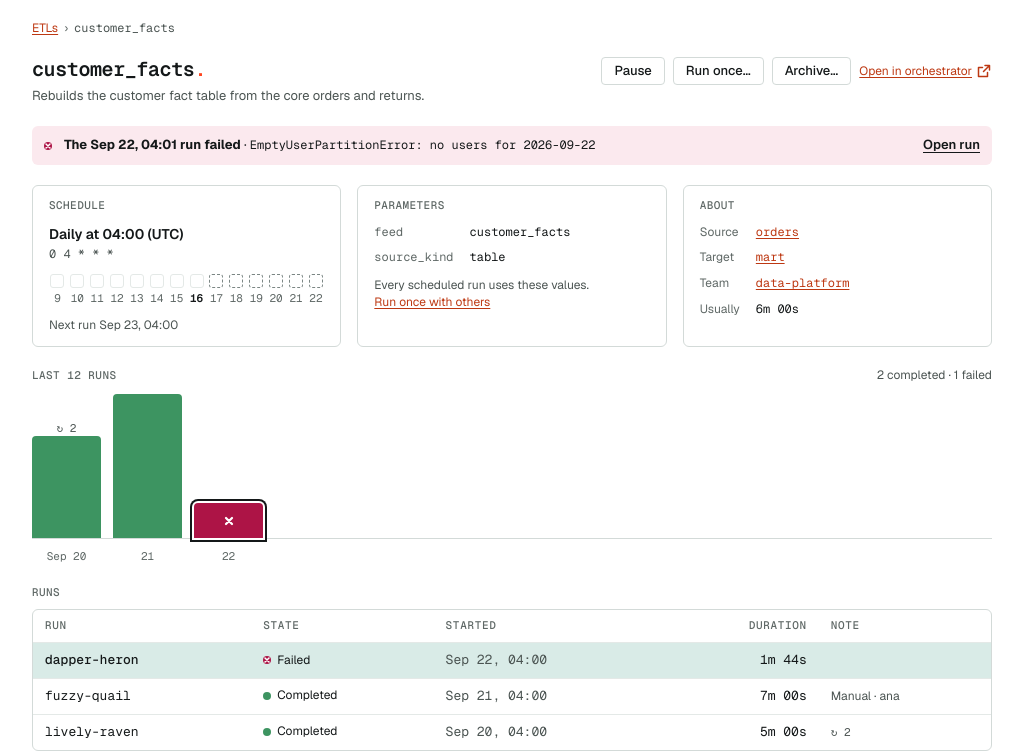
EtlPage › archives after a short confirmation, and offers to undo it at once
Expected: the table named "Runs" is shown, 33,610 -> 991,750
Click the button "Archive…" at (811,71), box 772,57 -> 851,85
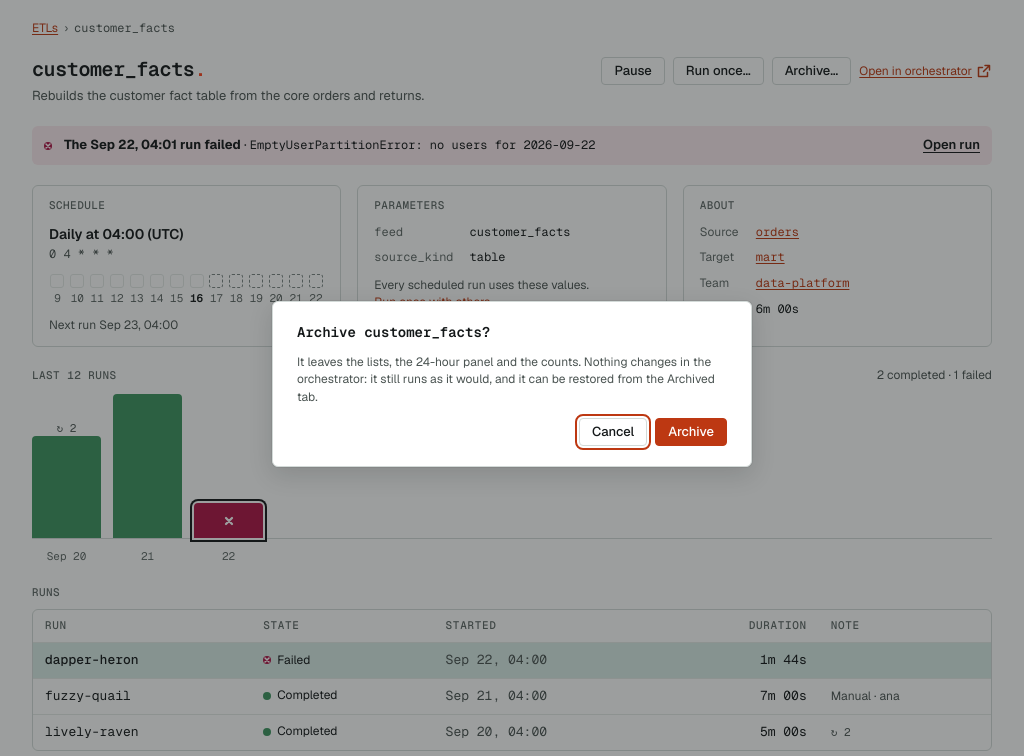
Now the dialog "Archive customer_facts?" shows "Nothing changes in the orchestrator", box 297,354 -> 715,405
Click the button "Archive" at (691,432), box 655,418 -> 727,446
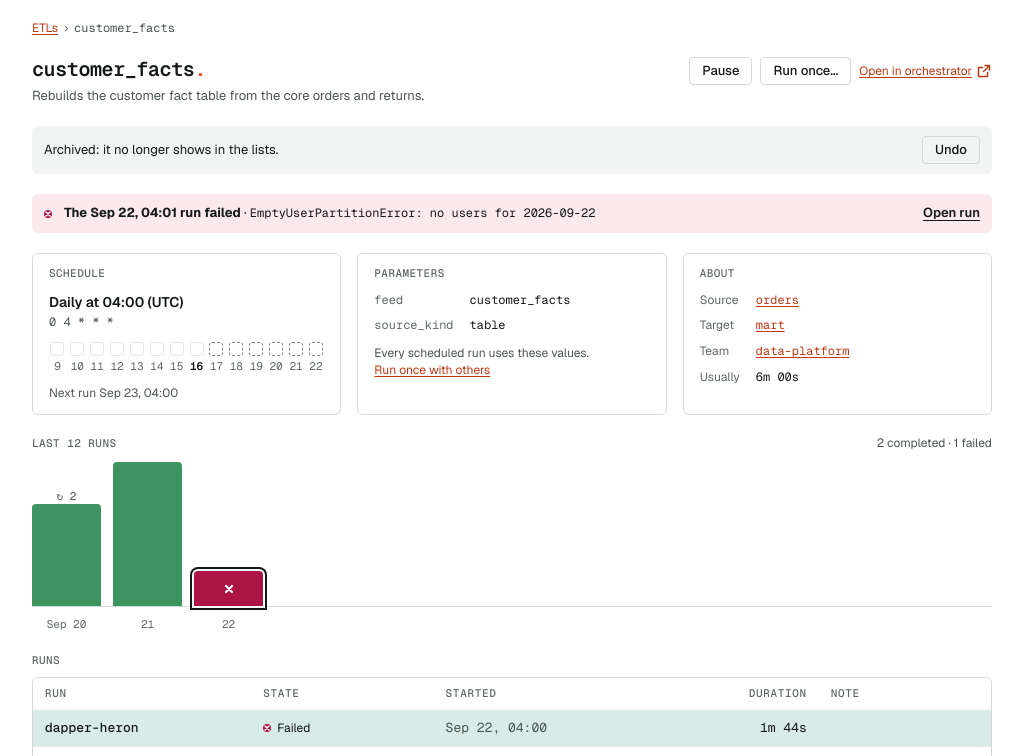
Now the button "Archive…" is gone
Click the button "Undo" at (951,150), box 922,136 -> 980,164
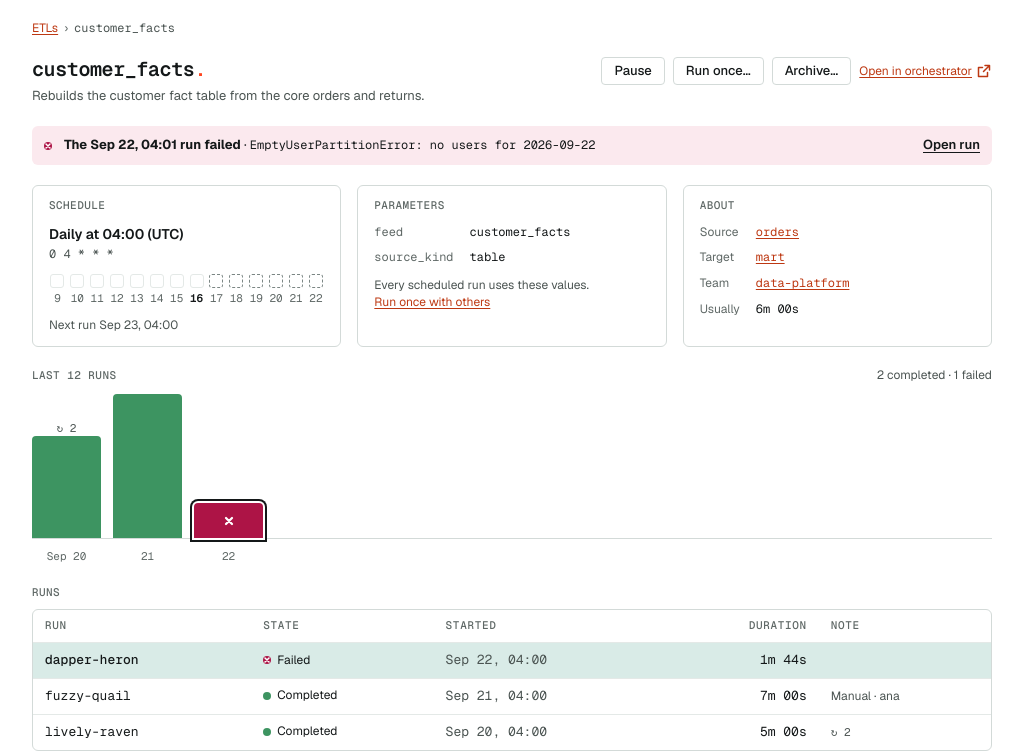
Now the text "Archived" is gone
